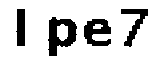7: (117, 5, 150, 49)
e: (81, 19, 114, 50)
l: (7, 3, 32, 52)
p: (43, 10, 79, 60)
